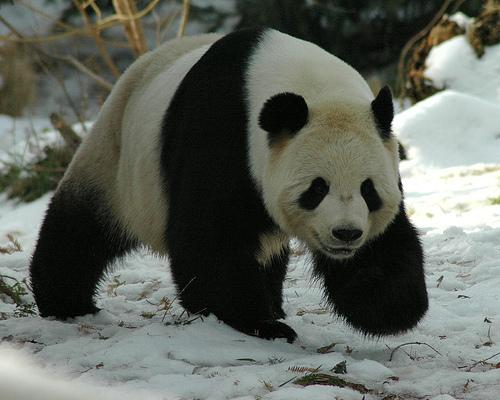panda: (30, 29, 427, 341)
